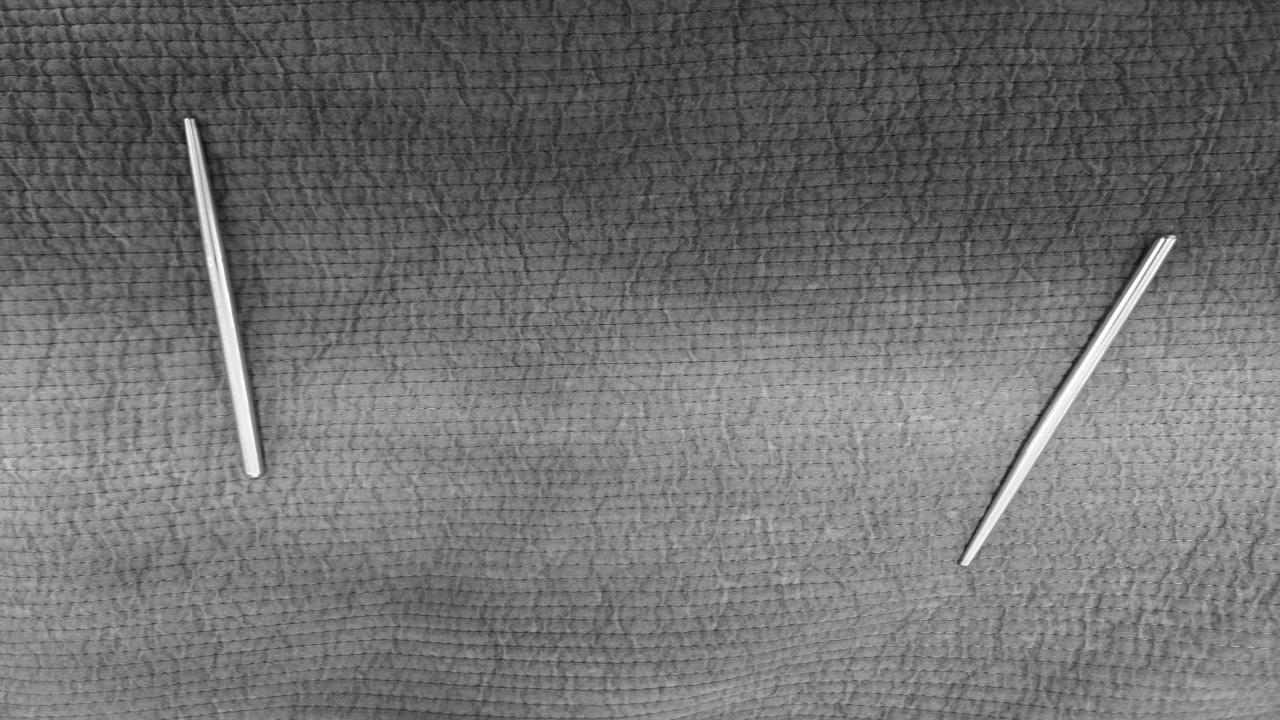chopstick: (952, 234, 1186, 572), (181, 119, 270, 480)
